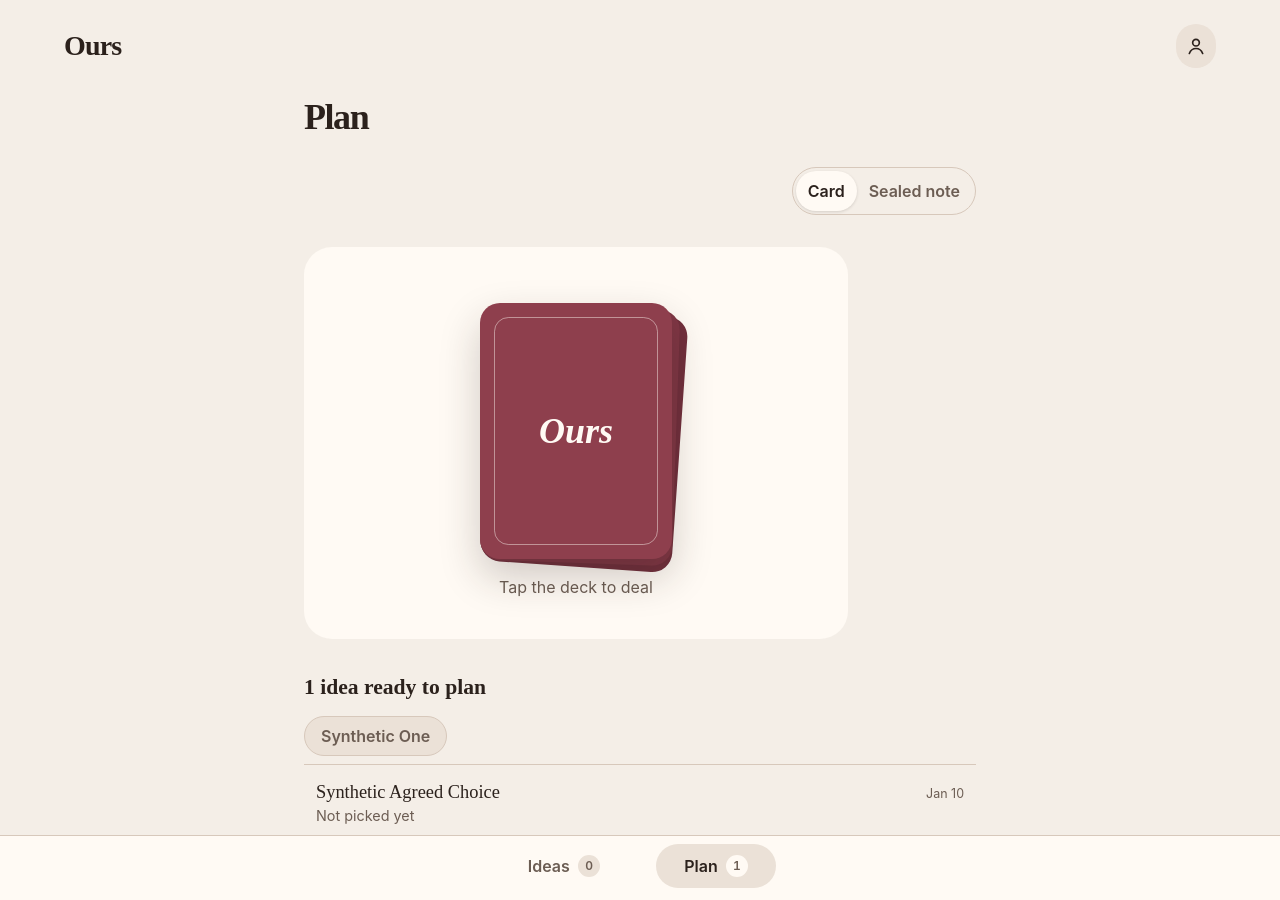
Test case: Plan reveal › Let's do it saves once, disables the choices while saving, and never defers
The image size is (1280, 900).
Step 1. Click the button with aria-label "Deal a card" → point(576, 431), box [480,303,672,559]
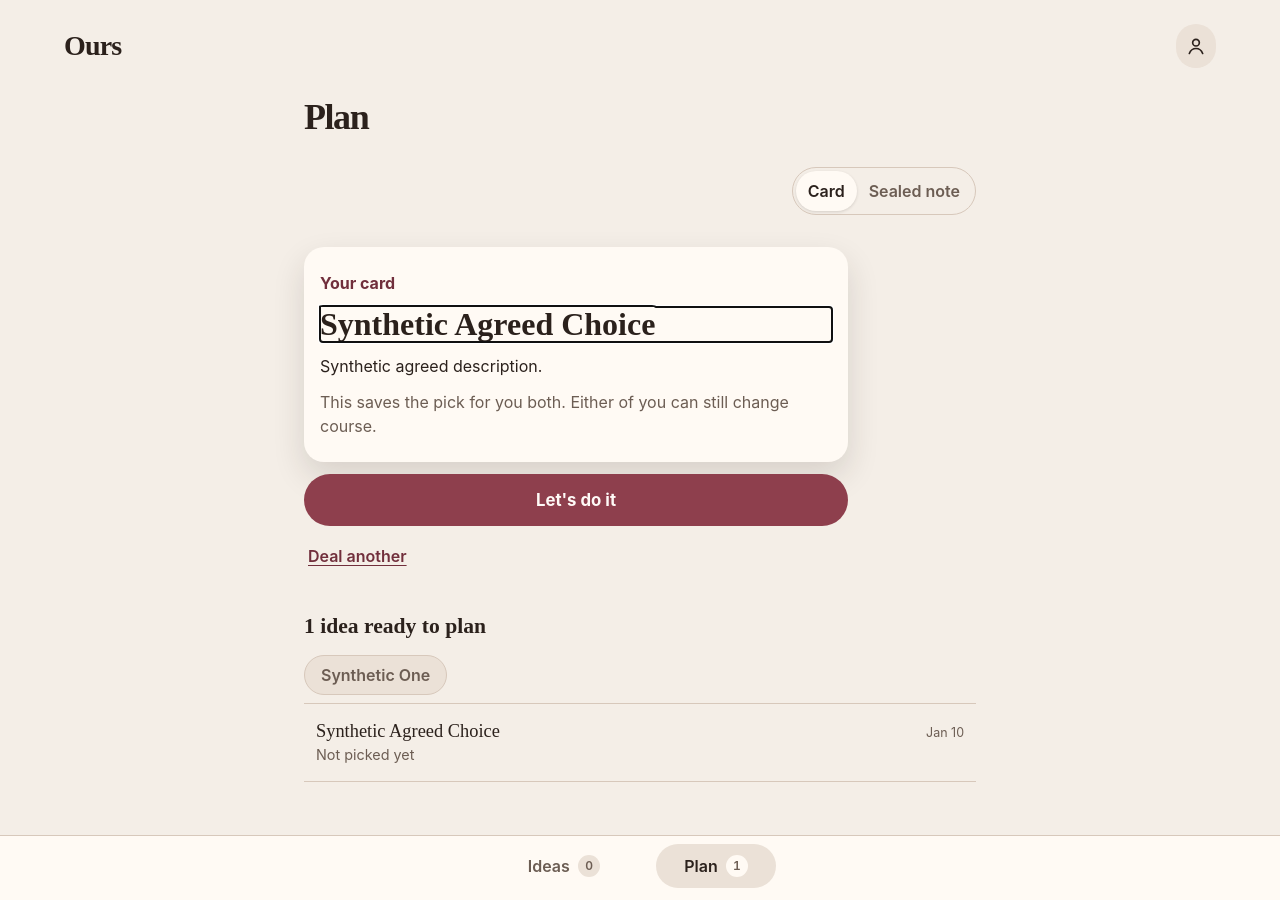
Step 2. Click the button "Let's do it" → point(576, 500), box [304,474,848,526]
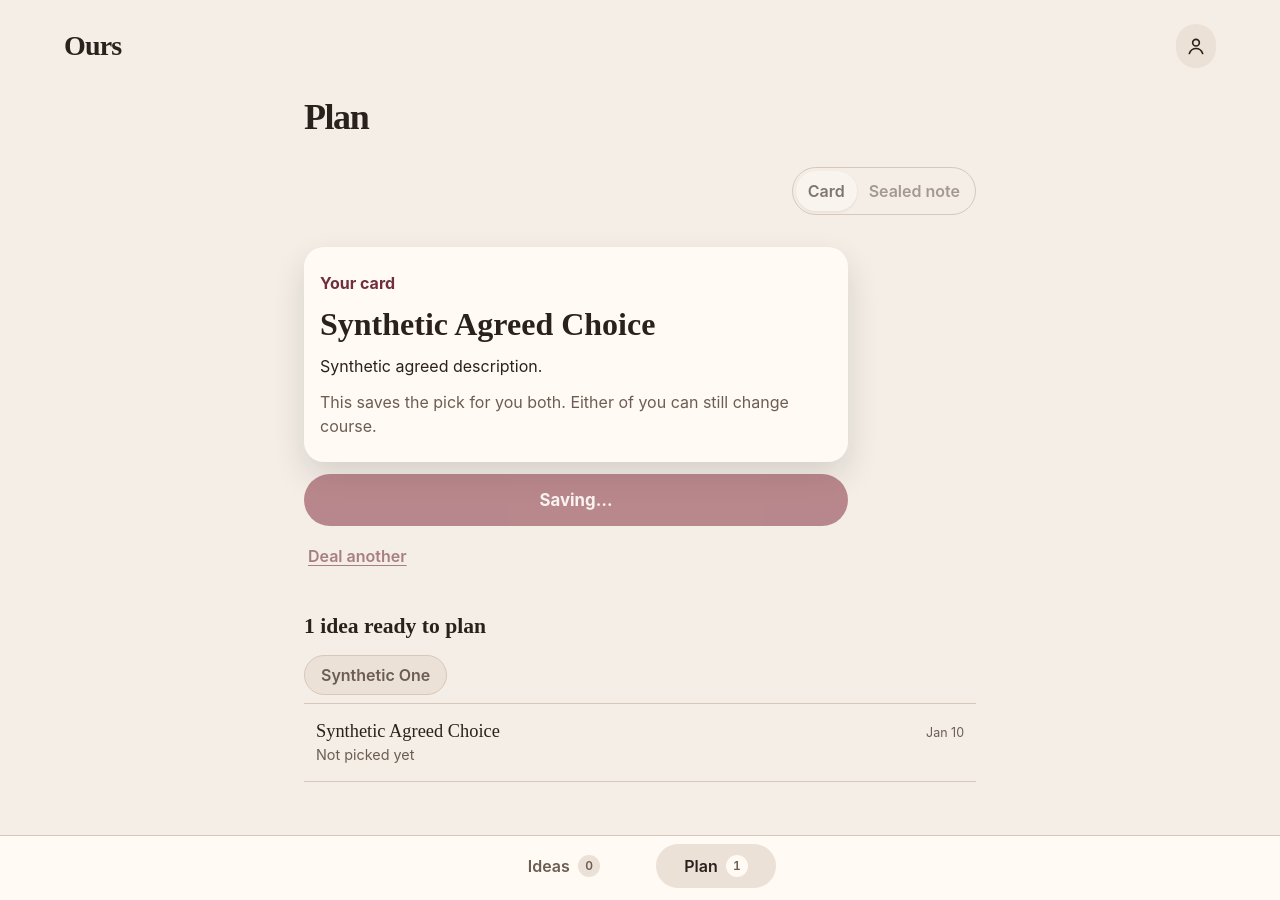
Expected: the button "Saving…" is disabled
Expected: the button "Deal another" is disabled, [304,534,411,578]
Step 3. Click the button "Saving…" → point(576, 500), box [304,474,848,526]
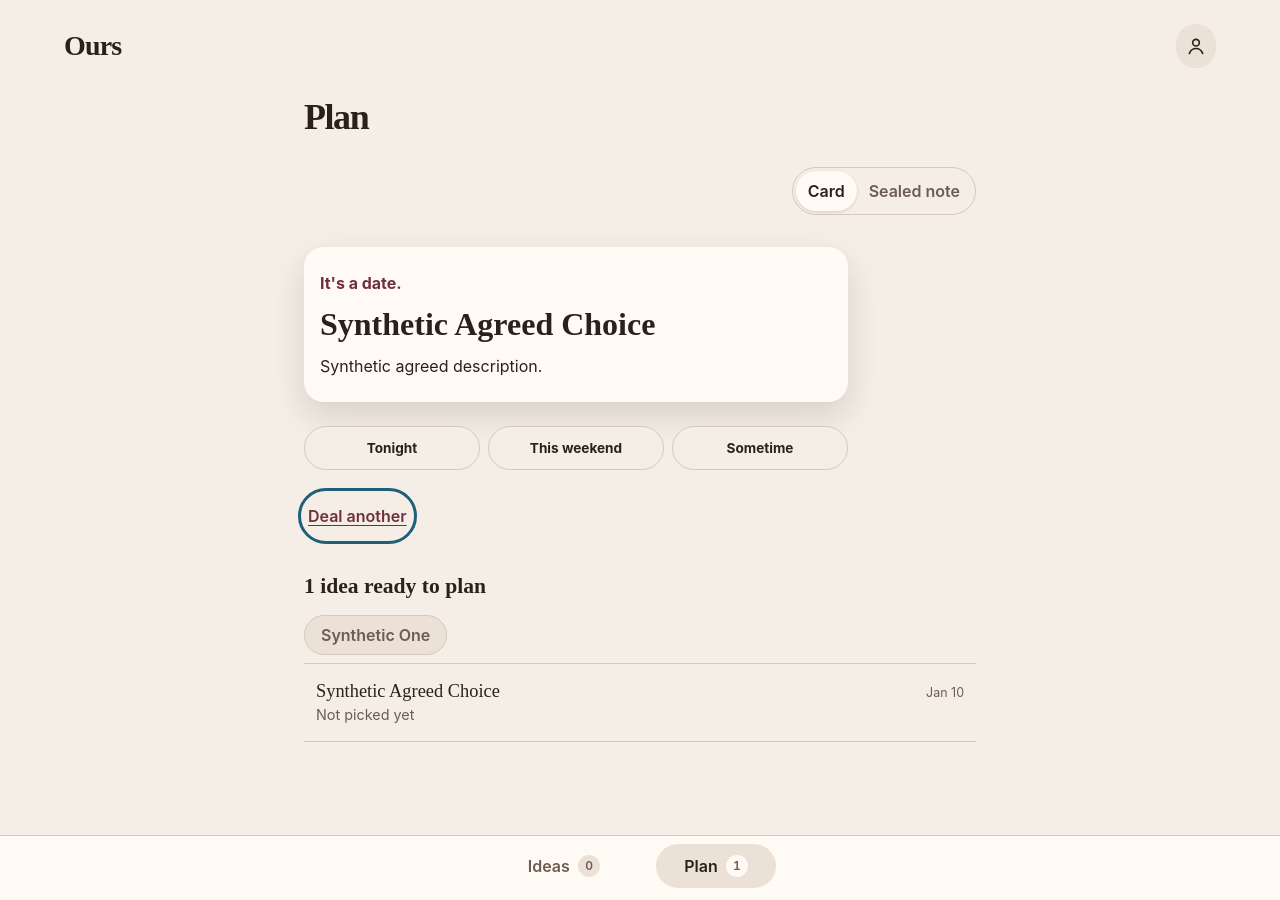
Expected: the heading "Synthetic Agreed Choice" is shown, [320,306,655,342]
Expected: the text "It's a date." is shown, [320,273,402,293]
